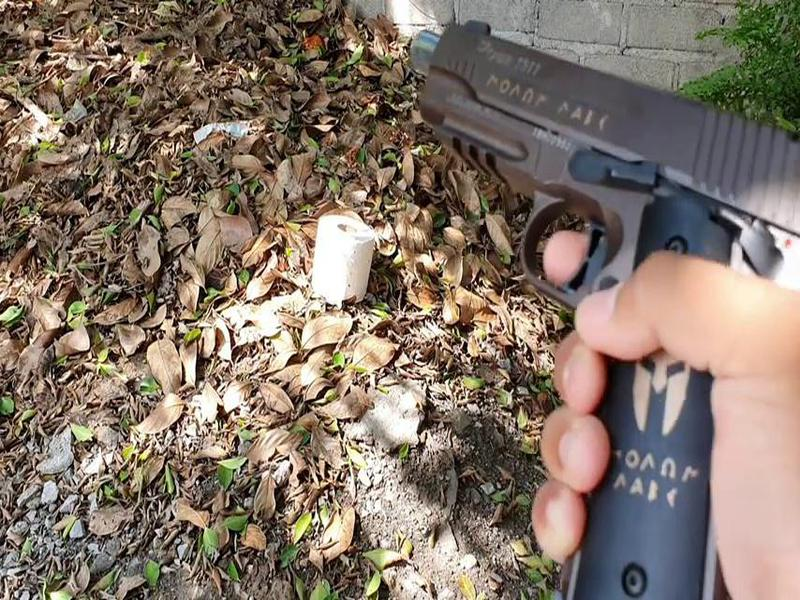Pistola: (385, 4, 800, 580)
